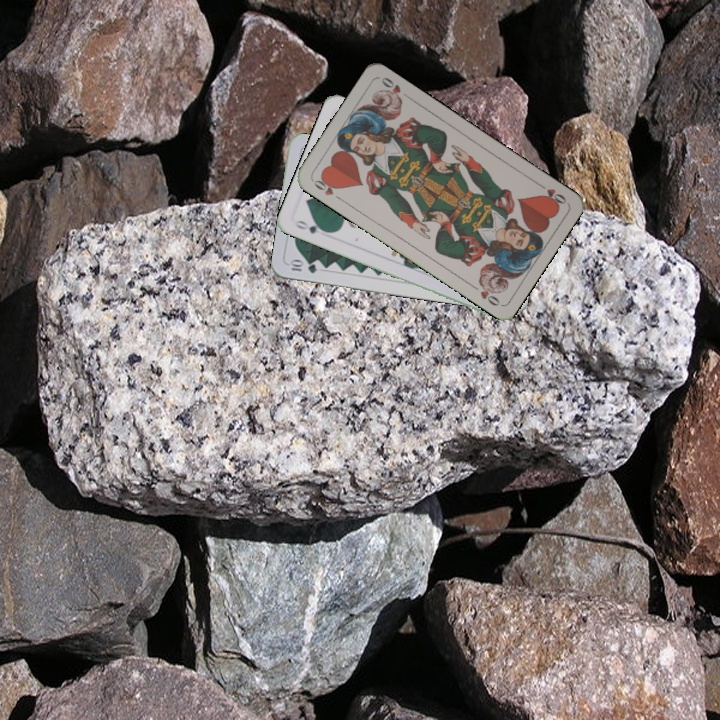G10: (285, 257, 320, 276)
GO: (291, 216, 331, 236)
HO: (309, 173, 345, 203), (533, 179, 569, 208)
